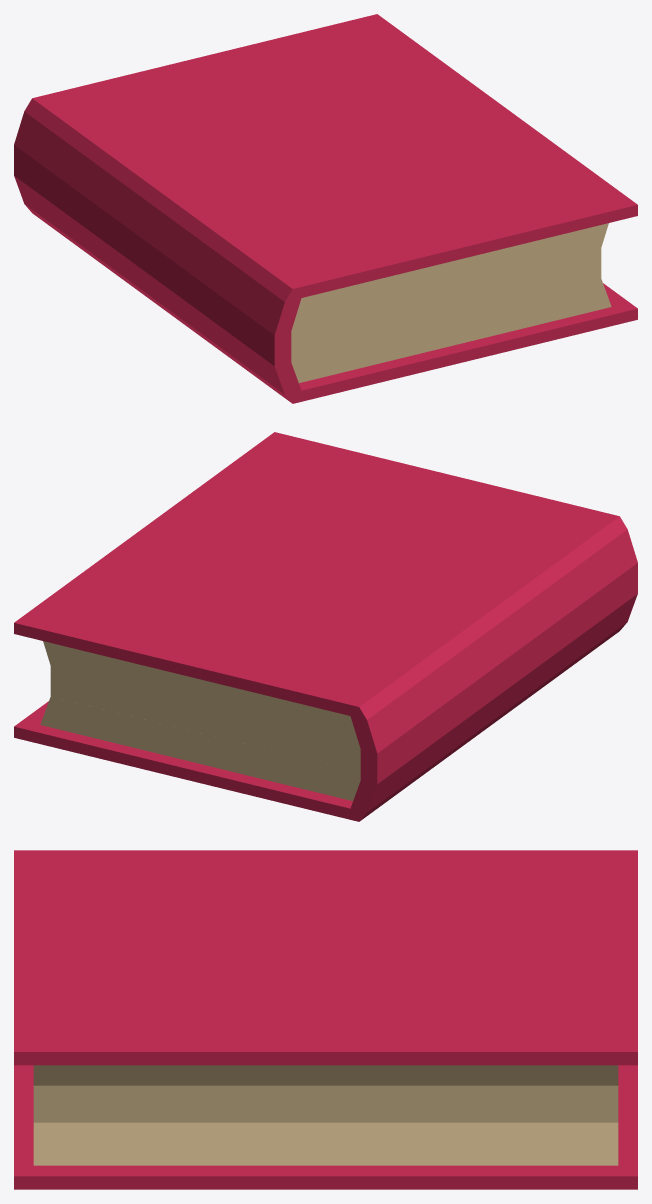
The model's file is Book.fbx.
3 views of the same model, one above another, from view 1: azimuth 30°, elevation 25°; view 2: azimuth 150°, elevation 25°; view 3: azimuth 270°, elevation 25° (orthographic). The views are drawn at different scales.
Parts seen in each view (by area): view 1: Book09; view 2: Book09; view 3: Book09.
Part boxes in pixels (bbox=[...]): Book09: bbox=[14, 14, 637, 403]; Book09: bbox=[14, 432, 637, 821]; Book09: bbox=[14, 850, 637, 1189].
Size of the model in its own units: 14.89 by 4.5 by 18.5.
